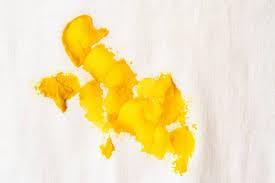lipstick: (92, 59, 194, 166), (35, 70, 103, 126), (57, 17, 115, 79)
